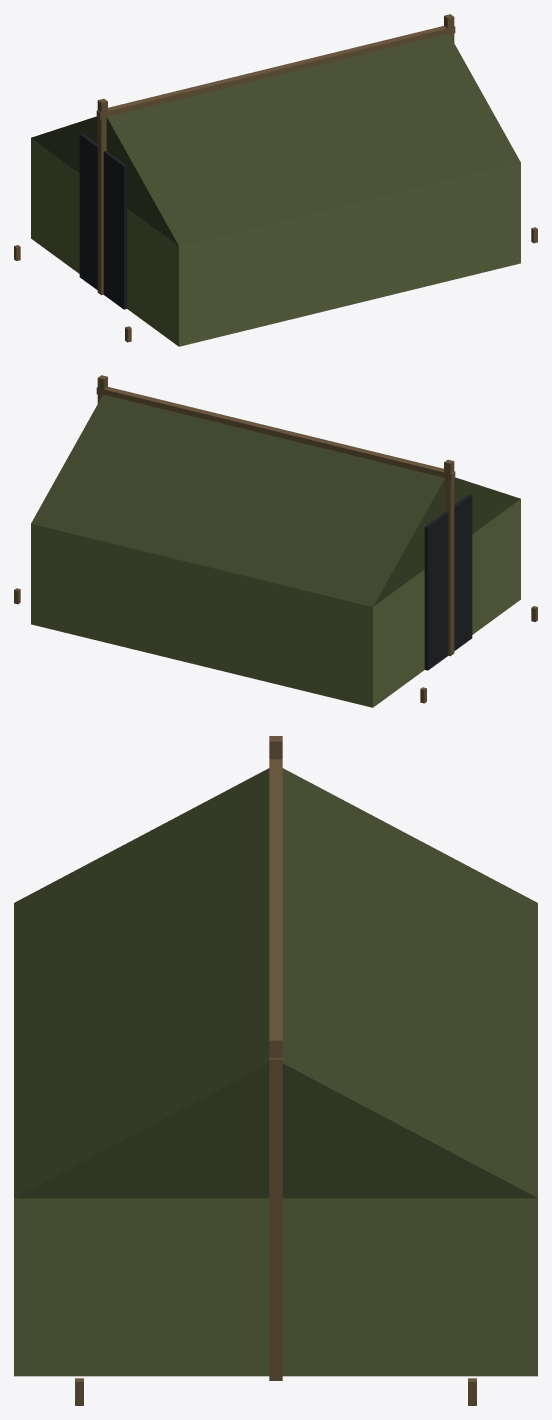
Rendered from env_tent.fbx.
The picture shows the model from 3 angles, top to bottom: view 1: azimuth 30°, elevation 25°; view 2: azimuth 150°, elevation 25°; view 3: azimuth 270°, elevation 25°; orthographic projection. The views are drawn at different scales.
Parts seen in each view (by area): view 1: env_tent; view 2: env_tent; view 3: env_tent.
Boxes of the visible parts, <box> form: env_tent: <box>14,14,537,346</box>; env_tent: <box>14,375,537,707</box>; env_tent: <box>14,736,537,1405</box>.
Bounding box in the file's own units: 1920 × 860 × 1200.
